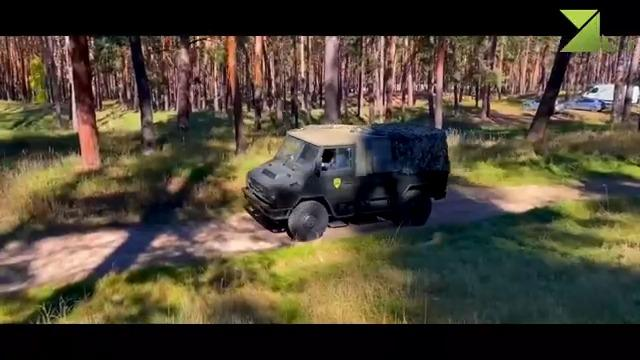MIL_HMMWV: (242, 123, 451, 242)
